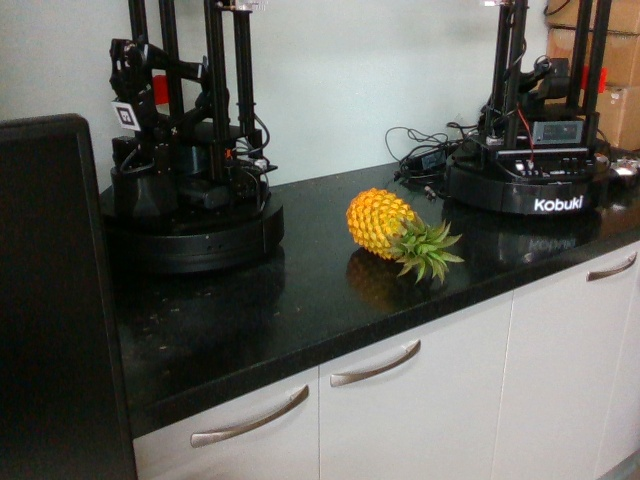pineapple: (344, 184, 464, 289)
